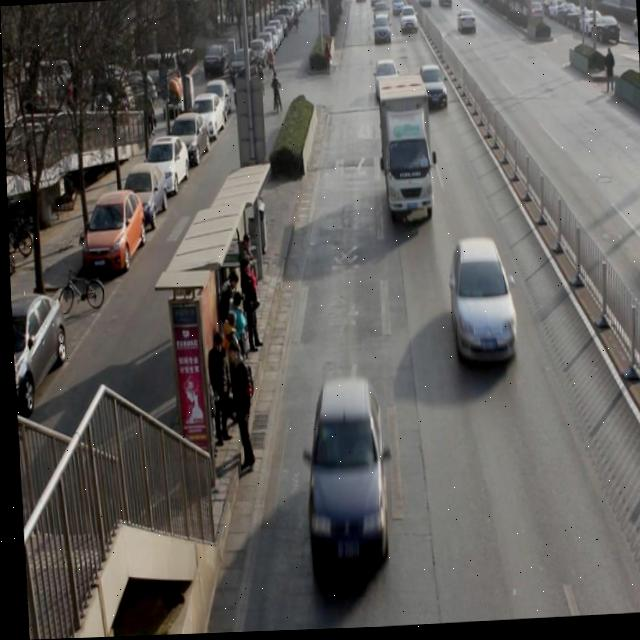bus: (378, 87, 432, 223)
car: (303, 378, 386, 571), (447, 240, 518, 376), (416, 66, 448, 113), (372, 61, 399, 105), (456, 11, 477, 39), (372, 18, 392, 47), (399, 9, 418, 38)
